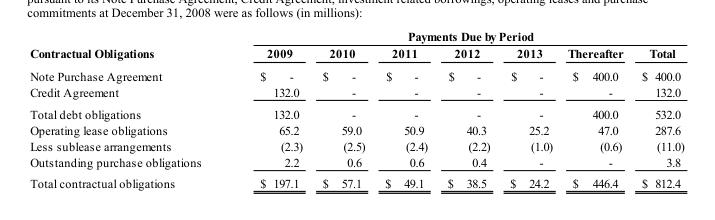table: (29, 29, 683, 189)
table column: (29, 29, 229, 189), (229, 29, 311, 189), (559, 29, 631, 189), (311, 29, 374, 189), (436, 29, 499, 189), (374, 29, 436, 189), (499, 29, 559, 189), (631, 29, 683, 189)
table column header: (29, 29, 683, 64)
table row: (29, 44, 683, 64), (29, 64, 683, 83), (29, 83, 683, 102), (29, 102, 683, 121), (29, 153, 683, 172), (29, 172, 683, 189), (29, 121, 683, 137), (29, 137, 683, 153), (29, 29, 683, 44)
table spanning cell: (29, 29, 229, 64), (229, 29, 683, 44)
